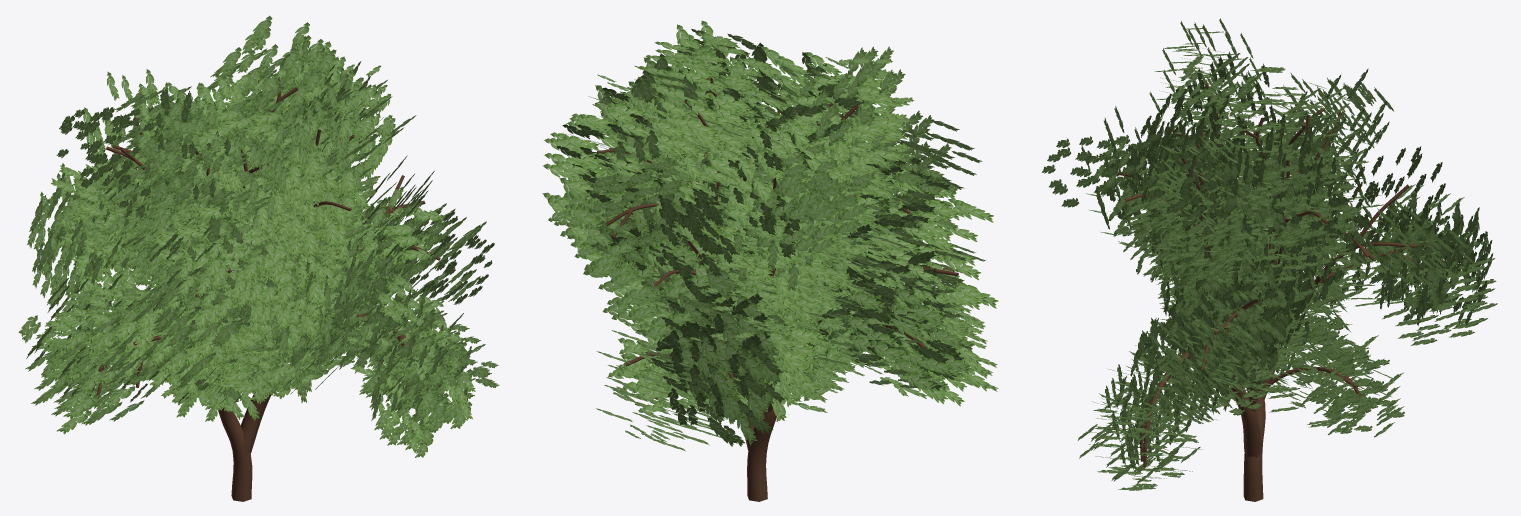
Rendered from Tree2.fbx.
3 renders of one model, left to right at view 1: azimuth 30°, elevation 25°; view 2: azimuth 150°, elevation 25°; view 3: azimuth 270°, elevation 25°, orthographic. The views are drawn at different scales.
Visible parts, largest first — view 1: Tree2; view 2: Tree2; view 3: Tree2.
Part boxes in pixels (x1,y1,x2,y2): Tree2: [18, 15, 499, 501]; Tree2: [542, 20, 998, 501]; Tree2: [1042, 18, 1497, 501].
Size of the model in its own units: 527 by 511 by 483.
